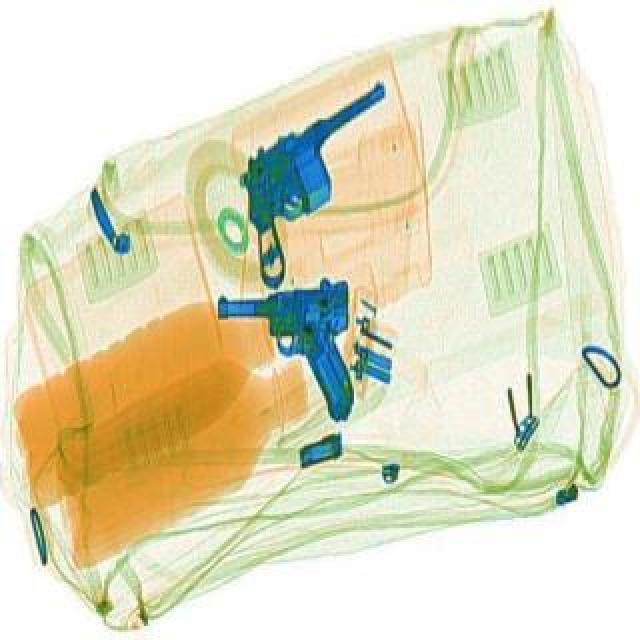gun: (192, 68, 450, 288), (214, 274, 364, 430)
